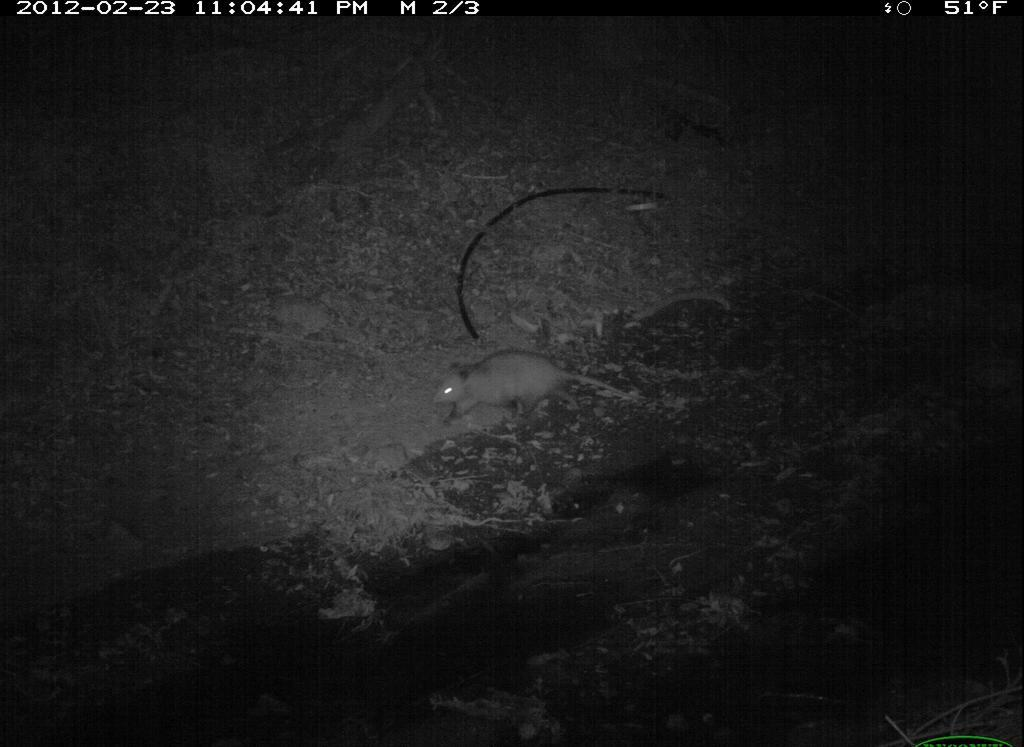opossum: (429, 347, 649, 434)
